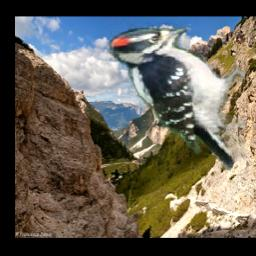Woodpecker: (108, 23, 246, 171)
